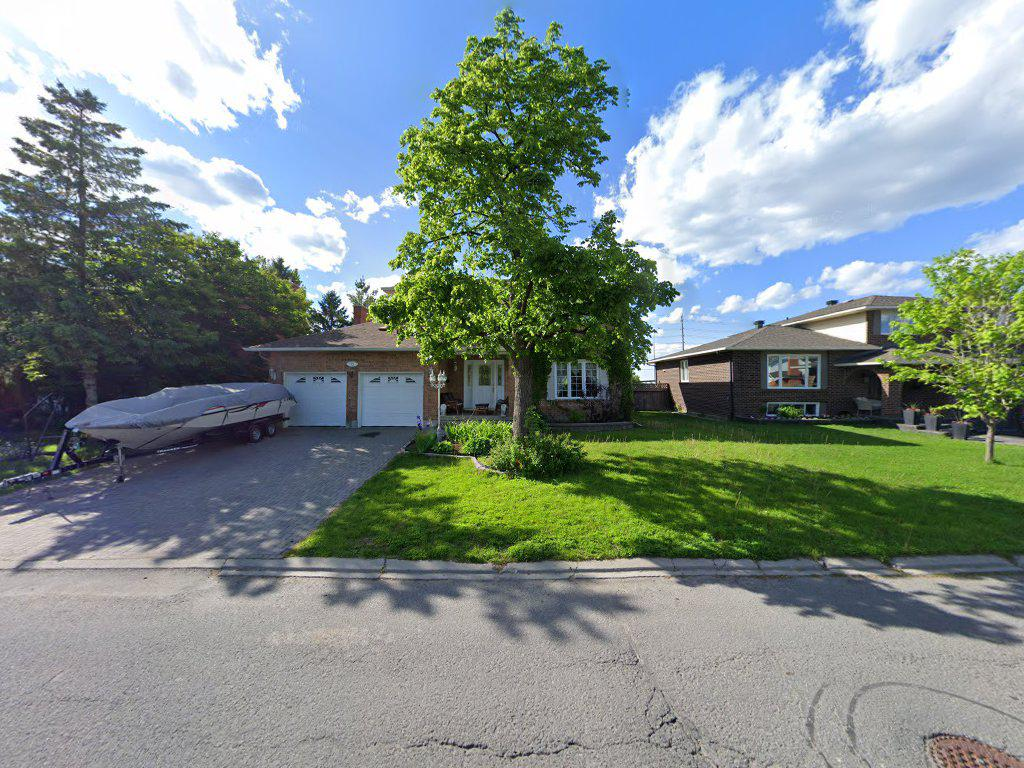trunk: (502, 334, 544, 484)
